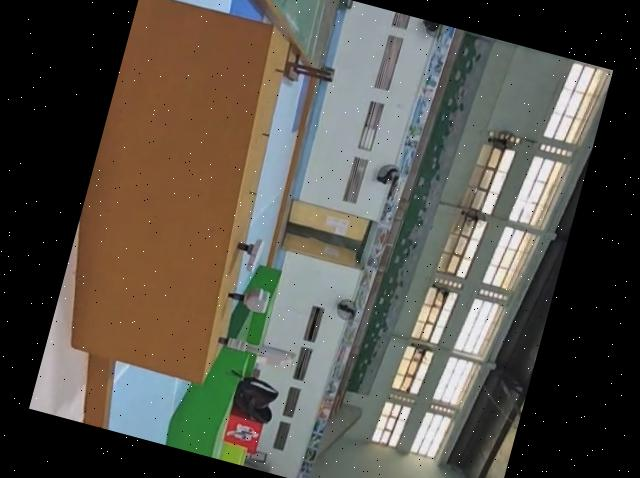Fist: (224, 279, 273, 318)
Hand: (229, 230, 268, 275)
Sph: (213, 329, 296, 367)
